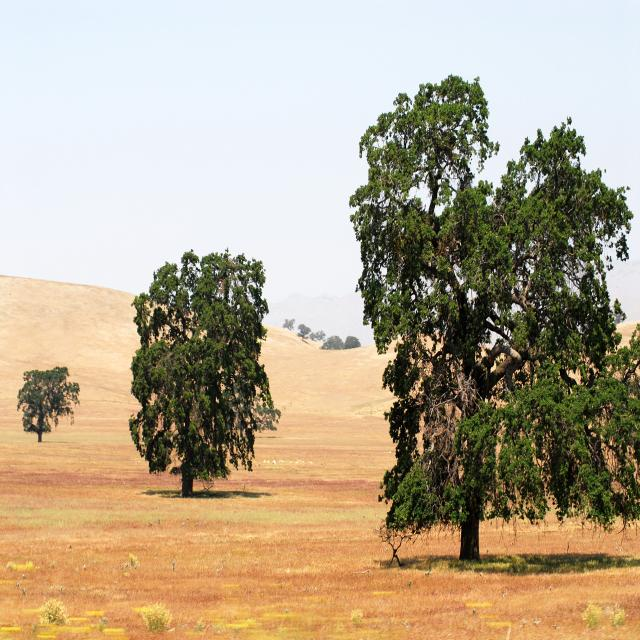Quercus kelloggii: (355, 76, 639, 566), (133, 252, 264, 498), (13, 367, 82, 443)
